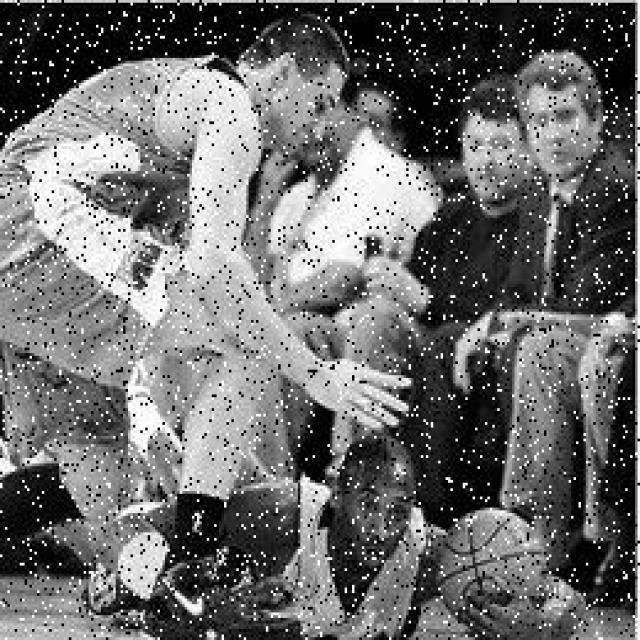fall: (94, 455, 576, 637)
